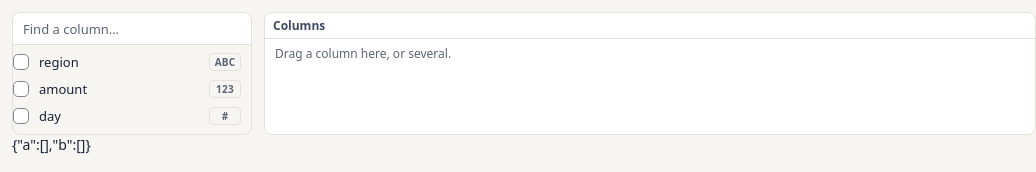
Test: FieldWell › finds columns by name
Type "am" into the field labelled "Find a column" at point(132, 29), box x1=13 y1=13 x2=251 y2=45
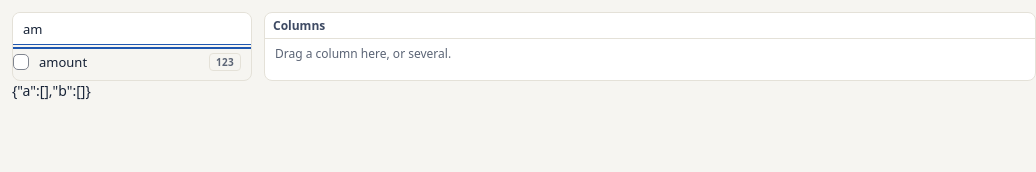
Check: the buttons read "amount123", in this order, box x1=29 y1=49 x2=251 y2=76
